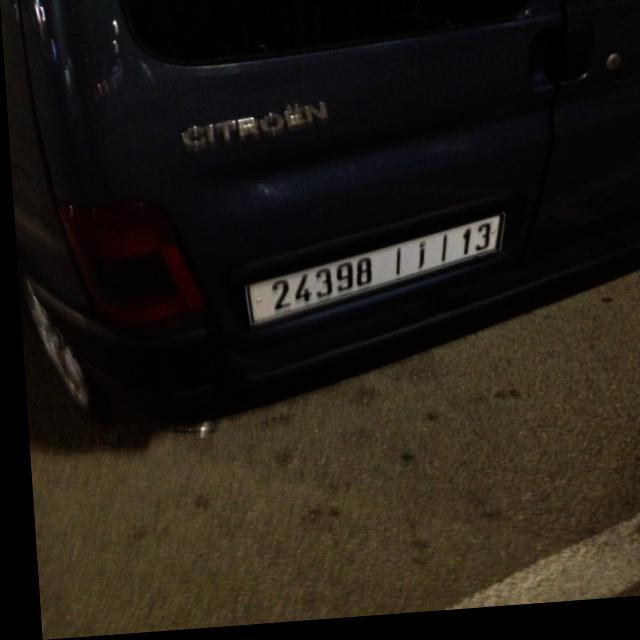License-Plate: (241, 221, 500, 329)
